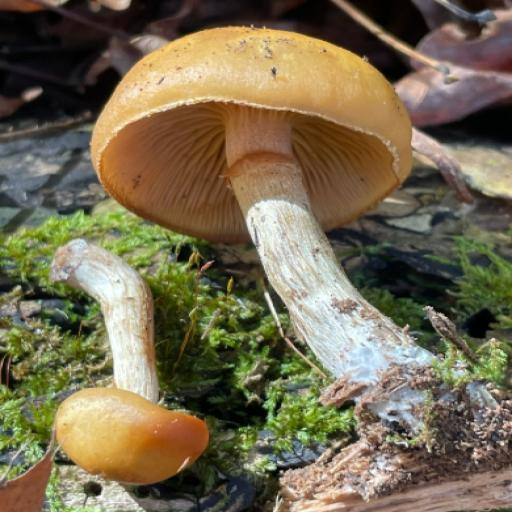mushroom: (64, 21, 435, 245), (42, 224, 213, 497)
